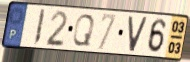2: (45, 9, 69, 47)
6: (147, 17, 169, 55)
7: (97, 12, 119, 52)
I: (32, 8, 47, 46)
Q: (71, 13, 97, 48)
V: (127, 15, 150, 53)
